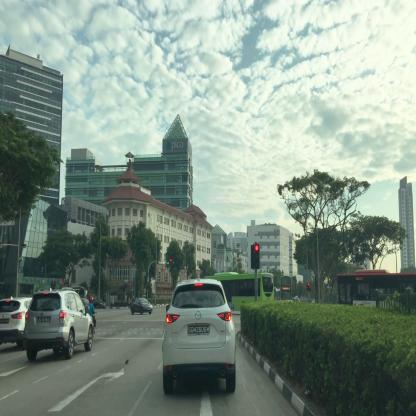red_traffic_light: (255, 243, 260, 265)
